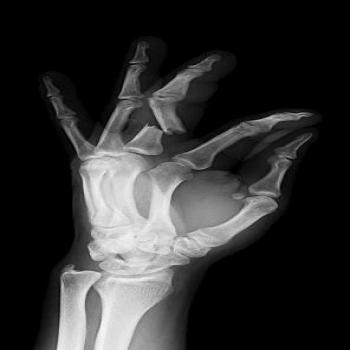Fracture: (136, 118, 193, 137)
